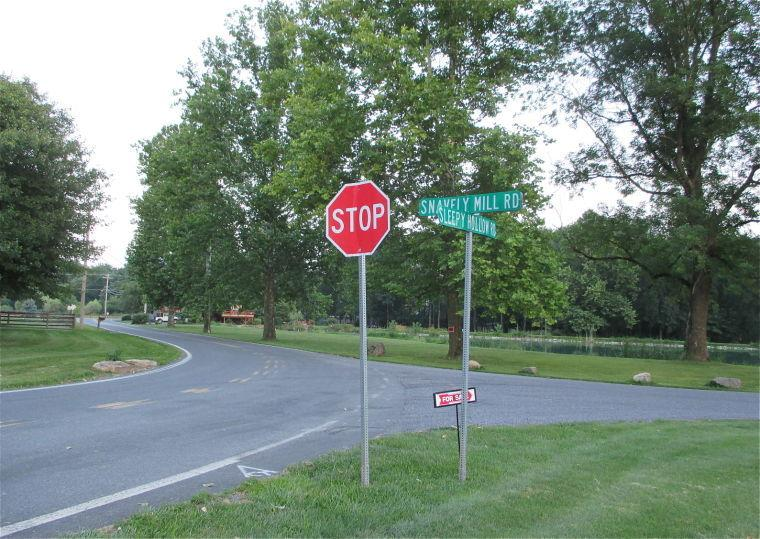Pole: (461, 234, 472, 481), (358, 255, 368, 484)
Sign: (325, 181, 391, 255)
